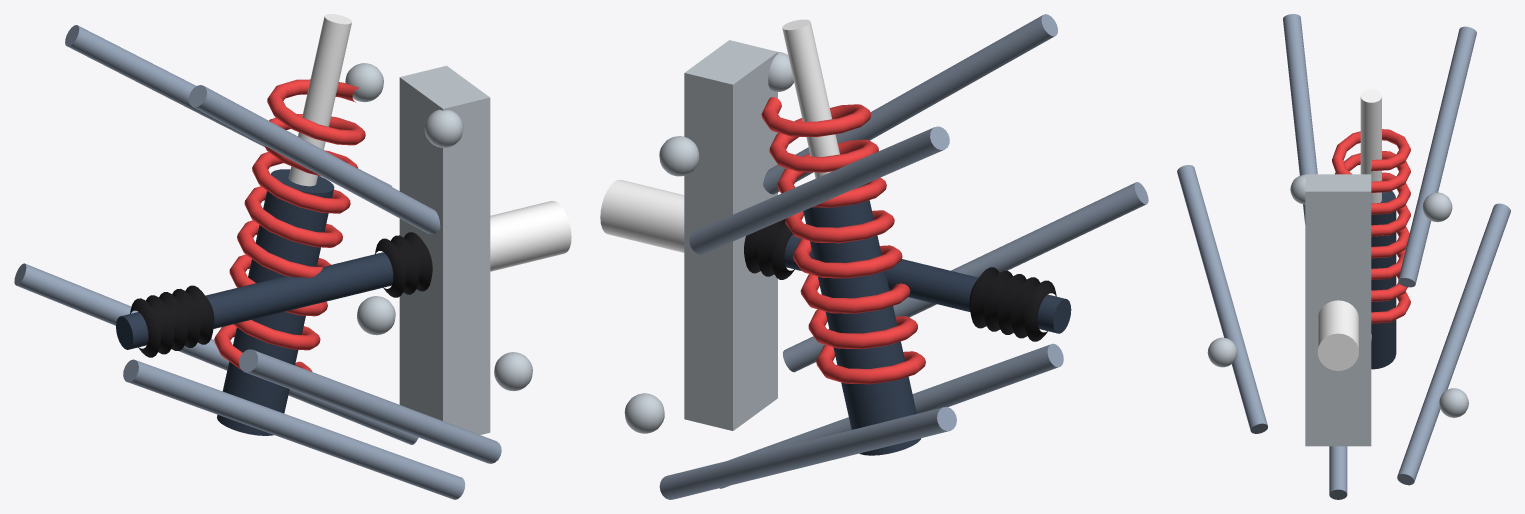
File: suspension_rear.glb
3 views of the same model, side by side, from view 1: azimuth 30°, elevation 25°; view 2: azimuth 150°, elevation 25°; view 3: azimuth 270°, elevation 25° (orthographic). The views are drawn at different scales.
Visible parts, largest first — view 1: Rear_Wheel_Carrier, Rear_Coilover_Assembly, CV_Drive_Axle_Halfshaft, Lower_Control_Arm, Upper_Camber_Link, Adjustable_Toe_Link, Lower_Trailing_Arm, Upper_Trailing_Link; view 2: Rear_Wheel_Carrier, Rear_Coilover_Assembly, CV_Drive_Axle_Halfshaft, Lower_Trailing_Arm, Upper_Trailing_Link, Upper_Camber_Link, Adjustable_Toe_Link, Lower_Control_Arm; view 3: Rear_Wheel_Carrier, Rear_Coilover_Assembly, Lower_Trailing_Arm, Adjustable_Toe_Link, Upper_Trailing_Link, Upper_Camber_Link, Lower_Control_Arm.
Boxes of the visible parts, x1=… form: Rear_Wheel_Carrier: x1=399, y1=65, x2=571, y2=434; Rear_Coilover_Assembly: x1=214, y1=14, x2=365, y2=435; CV_Drive_Axle_Halfshaft: x1=116, y1=232, x2=432, y2=357; Lower_Control_Arm: x1=123, y1=359, x2=465, y2=499; Upper_Camber_Link: x1=188, y1=85, x2=463, y2=234; Adjustable_Toe_Link: x1=239, y1=349, x2=532, y2=463; Lower_Trailing_Arm: x1=14, y1=263, x2=418, y2=444; Upper_Trailing_Link: x1=65, y1=25, x2=392, y2=186; Rear_Wheel_Carrier: x1=600, y1=40, x2=777, y2=430; Rear_Coilover_Assembly: x1=761, y1=19, x2=925, y2=455; CV_Drive_Axle_Halfshaft: x1=744, y1=219, x2=1071, y2=341; Lower_Trailing_Arm: x1=624, y1=393, x2=956, y2=499; Upper_Trailing_Link: x1=659, y1=126, x2=949, y2=254; Upper_Camber_Link: x1=763, y1=14, x2=1057, y2=194; Adjustable_Toe_Link: x1=782, y1=182, x2=1148, y2=372; Lower_Control_Arm: x1=719, y1=343, x2=1063, y2=488; Rear_Wheel_Carrier: x1=1305, y1=174, x2=1371, y2=446; Rear_Coilover_Assembly: x1=1332, y1=89, x2=1410, y2=369; Lower_Trailing_Arm: x1=1397, y1=203, x2=1510, y2=485; Adjustable_Toe_Link: x1=1177, y1=165, x2=1267, y2=433; Upper_Trailing_Link: x1=1398, y1=26, x2=1476, y2=287; Upper_Camber_Link: x1=1283, y1=14, x2=1317, y2=224; Lower_Control_Arm: x1=1329, y1=446, x2=1347, y2=499.
Bounding box in the file's own units: 0.462 × 0.5107 × 0.4039.
